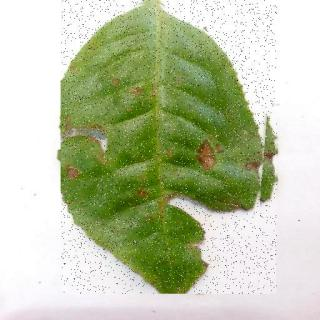Algal Leaf: (63, 1, 279, 295)
